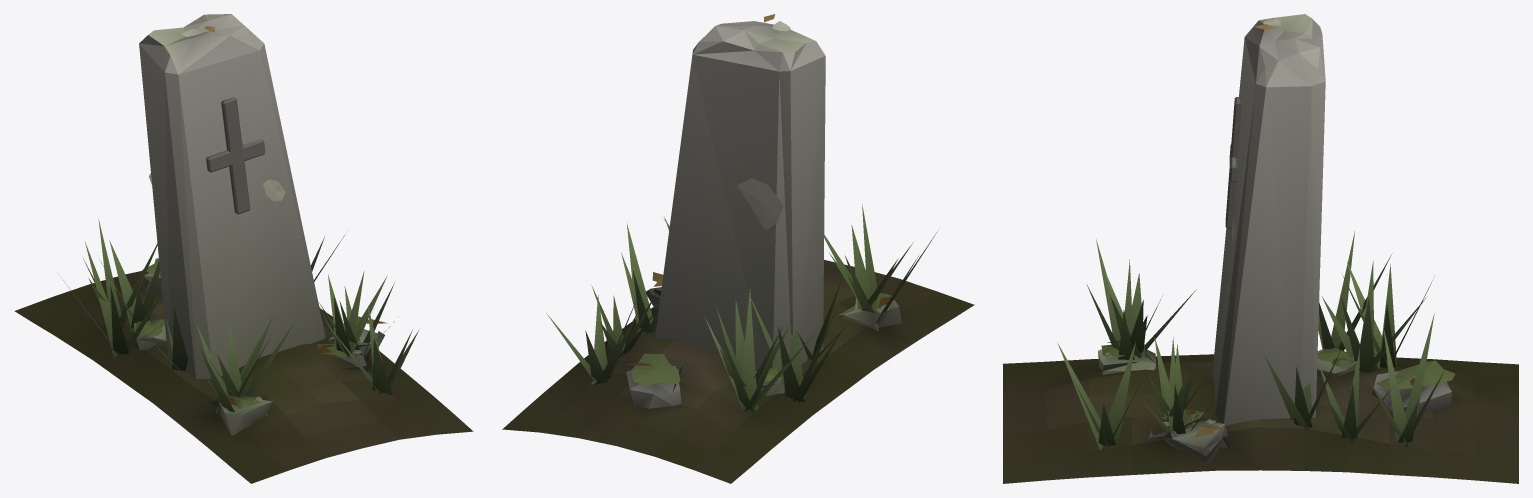
File: waystone.glb
The picture shows the model from 3 angles, left to right: view 1: azimuth 30°, elevation 25°; view 2: azimuth 150°, elevation 25°; view 3: azimuth 270°, elevation 25°; orthographic projection. The views are drawn at different scales.
Parts seen in each view (by area): view 1: waystone; view 2: waystone; view 3: waystone.
Part boxes in pixels (x1,y1,x2,y2): waystone: (14,14,473,483); waystone: (502,14,974,483); waystone: (1003,14,1518,483).
Size of the model in its own units: 0.936 by 1.24 by 1.46.
